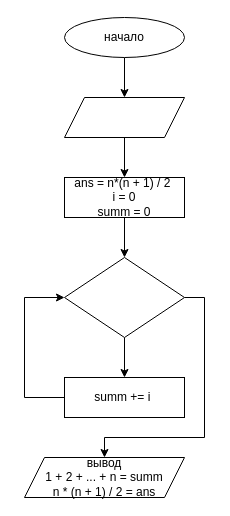
Some shapes in this 230 by 516 pixel diagram are drawn without their labels. The centre of each missing label's shape, as x and y in pixels:
while i <= n:: the point at 124,297
ввод n: the point at 124,117
